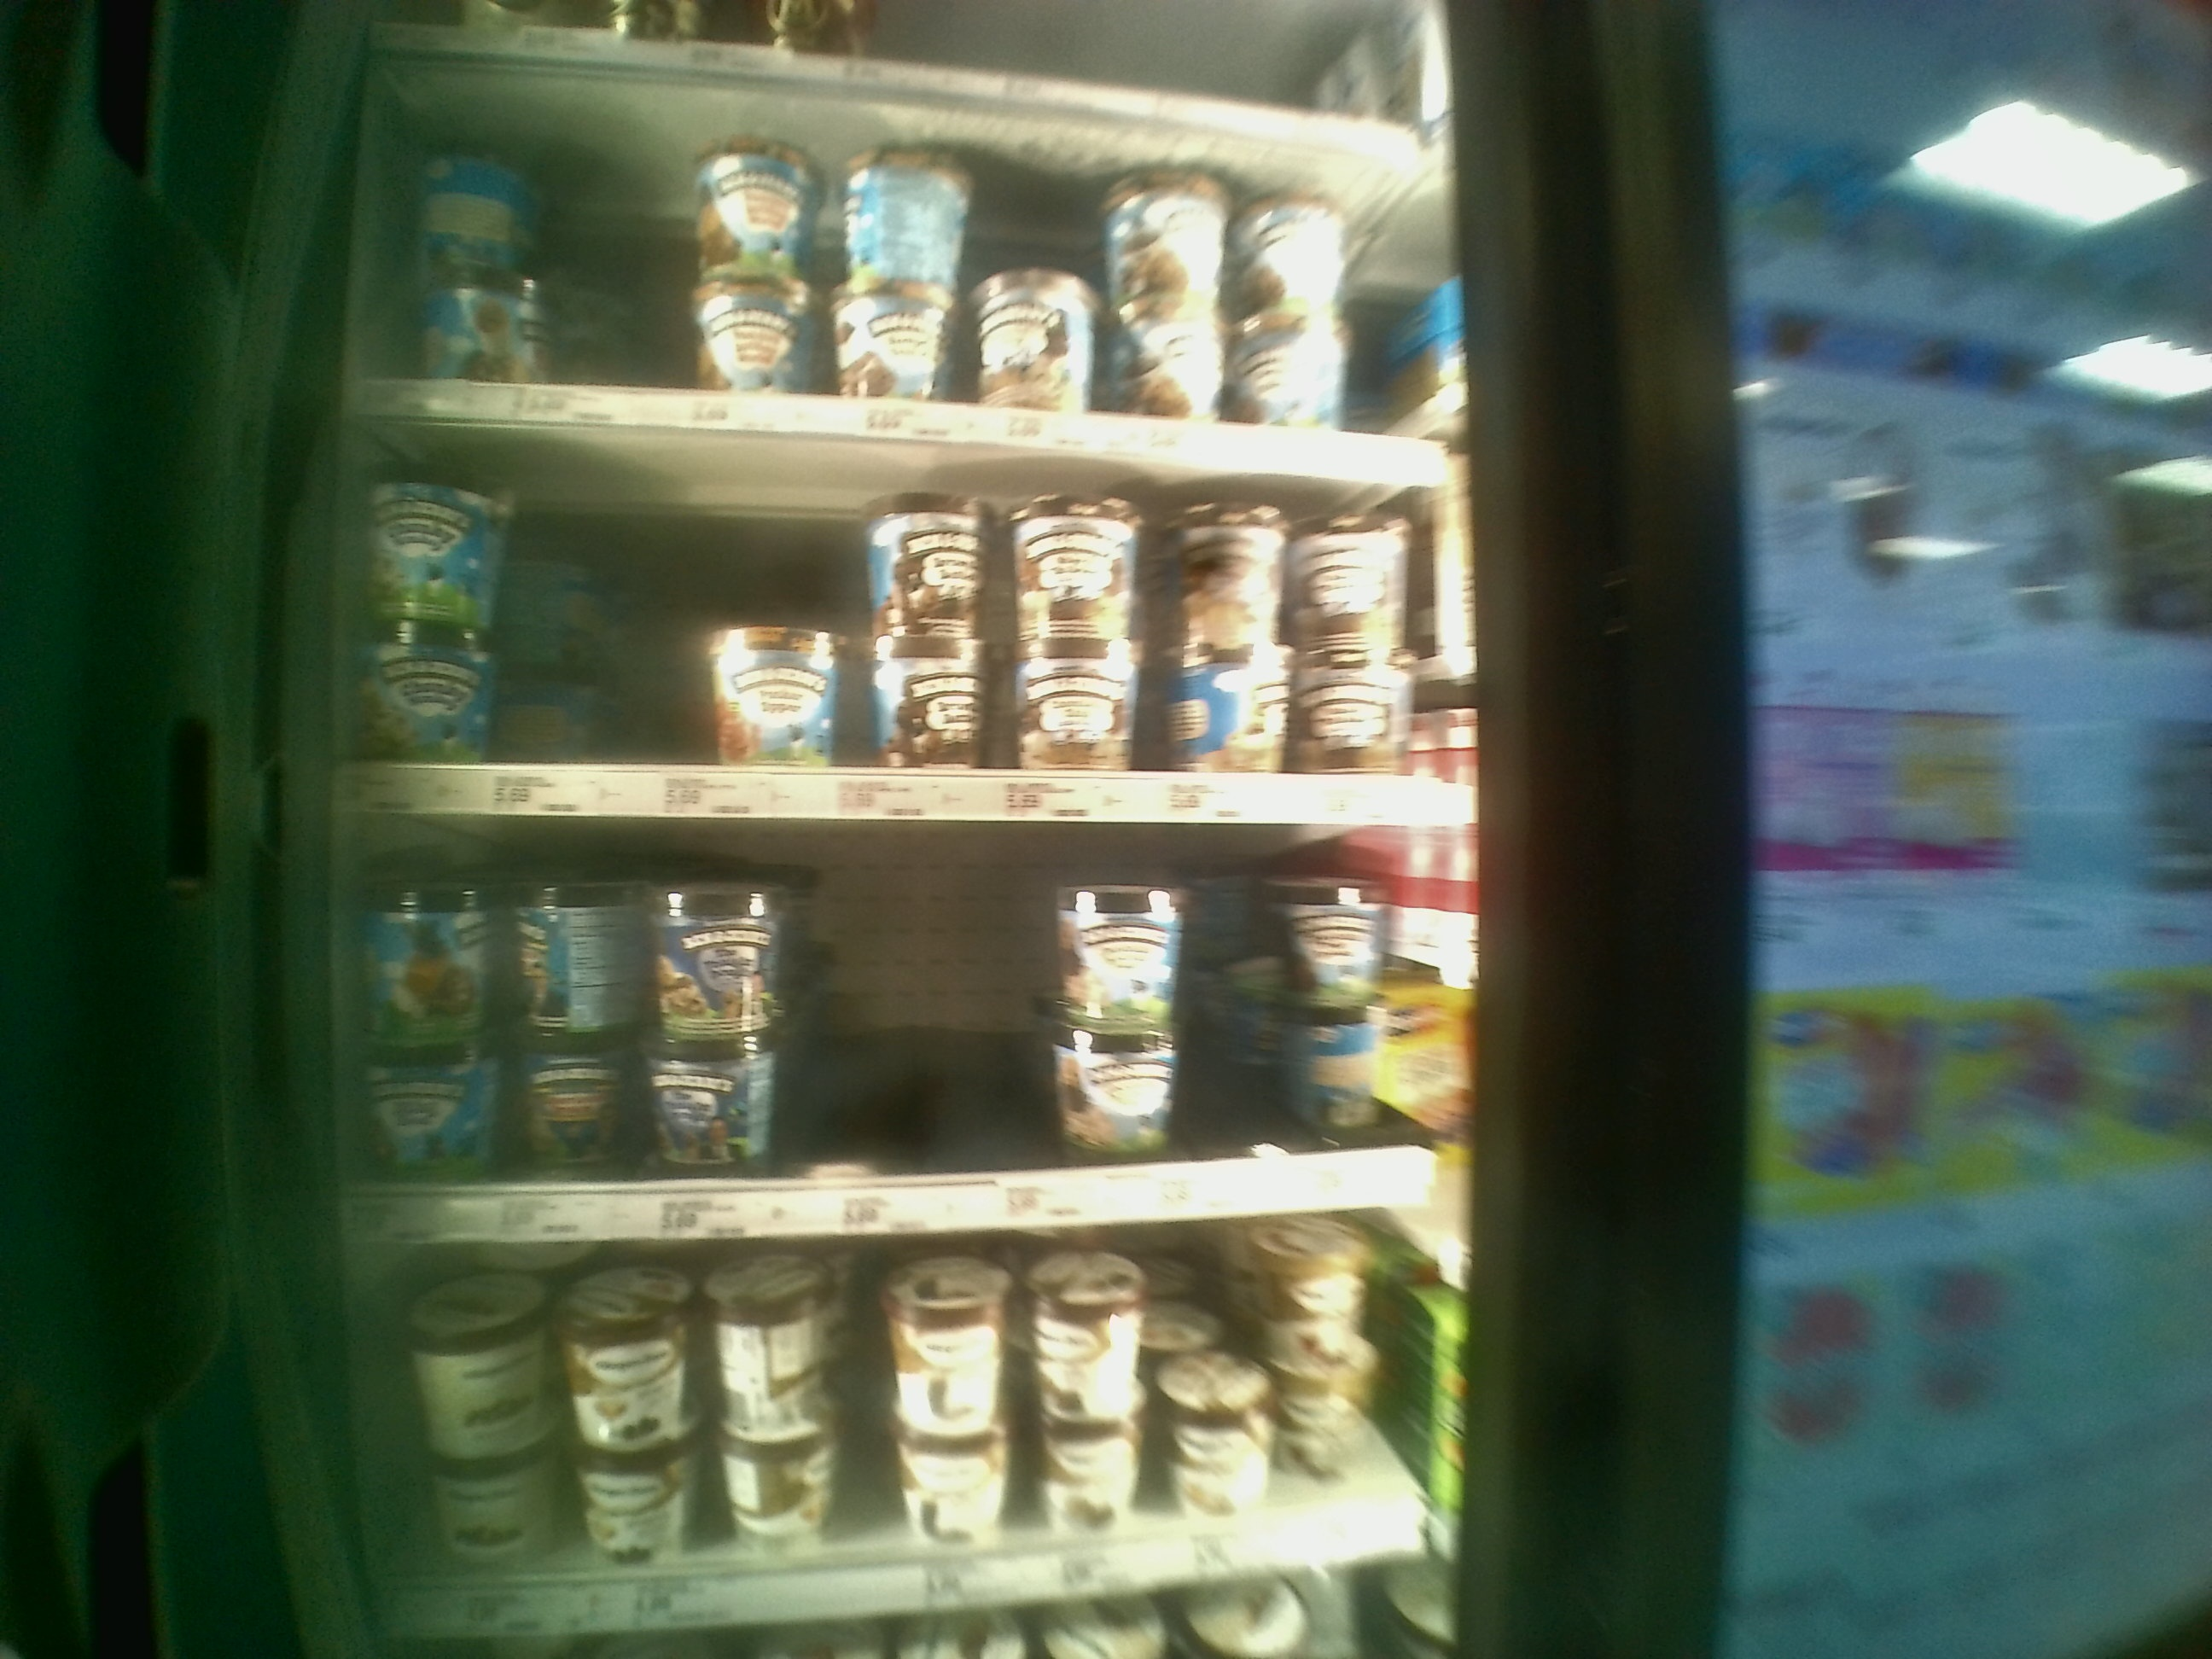ice-cream-shelf: (348, 413, 1463, 823), (355, 824, 1439, 1241)
